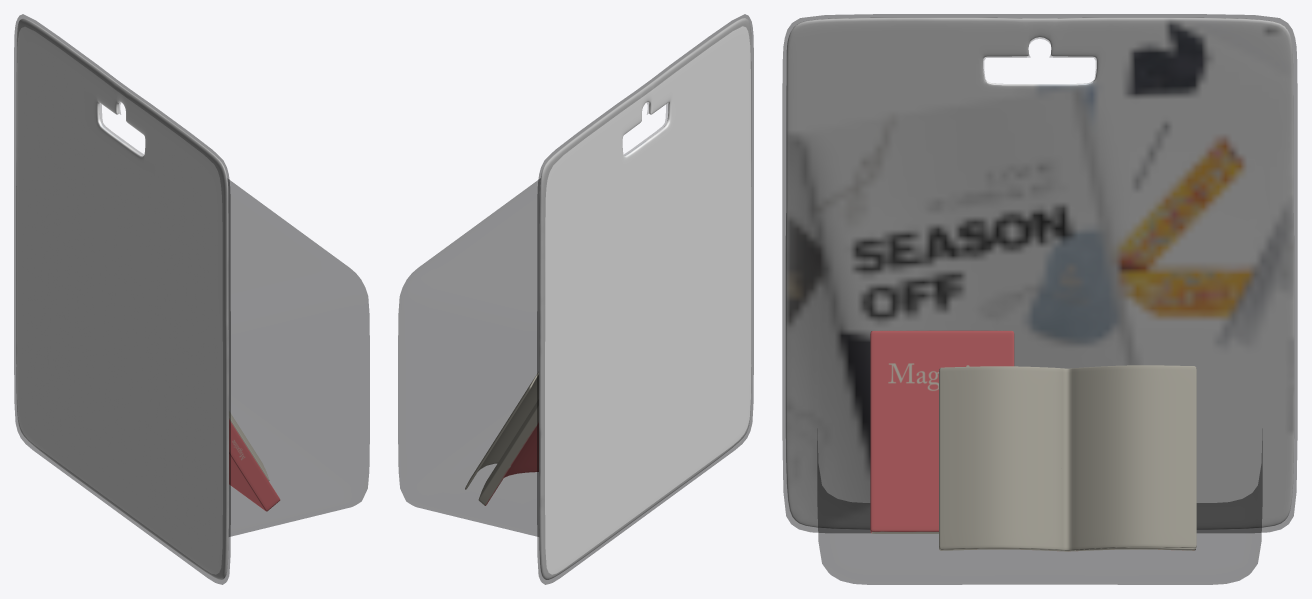
Rendered from seasonOff.glb.
3 views of the same model, side by side, from view 1: azimuth 30°, elevation 25°; view 2: azimuth 150°, elevation 25°; view 3: azimuth 270°, elevation 25° (orthographic). The views are drawn at different scales.
Parts seen in each view (by area): view 1: paper.004, plastic.004, stand_book.001; view 2: paper.004, plastic.004, book.003; view 3: plastic.004, paper.004, book.003, stand_book.001.
Part boxes in pixels (left/top/right/bottom): paper.004: left=16, top=18, right=228, bottom=579; plastic.004: left=14, top=14, right=369, bottom=584; stand_book.001: left=229, top=419, right=280, bottom=511; paper.004: left=539, top=18, right=751, bottom=579; plastic.004: left=398, top=14, right=753, bottom=584; book.003: left=465, top=372, right=538, bottom=505; plastic.004: left=782, top=14, right=1297, bottom=584; paper.004: left=785, top=17, right=1294, bottom=529; book.003: left=939, top=365, right=1196, bottom=551; stand_book.001: left=870, top=330, right=1014, bottom=533.
Bounding box in the file's own units: 0.0627 × 0.155 × 0.1393.
Materials: 4 (3 with a texture image).
